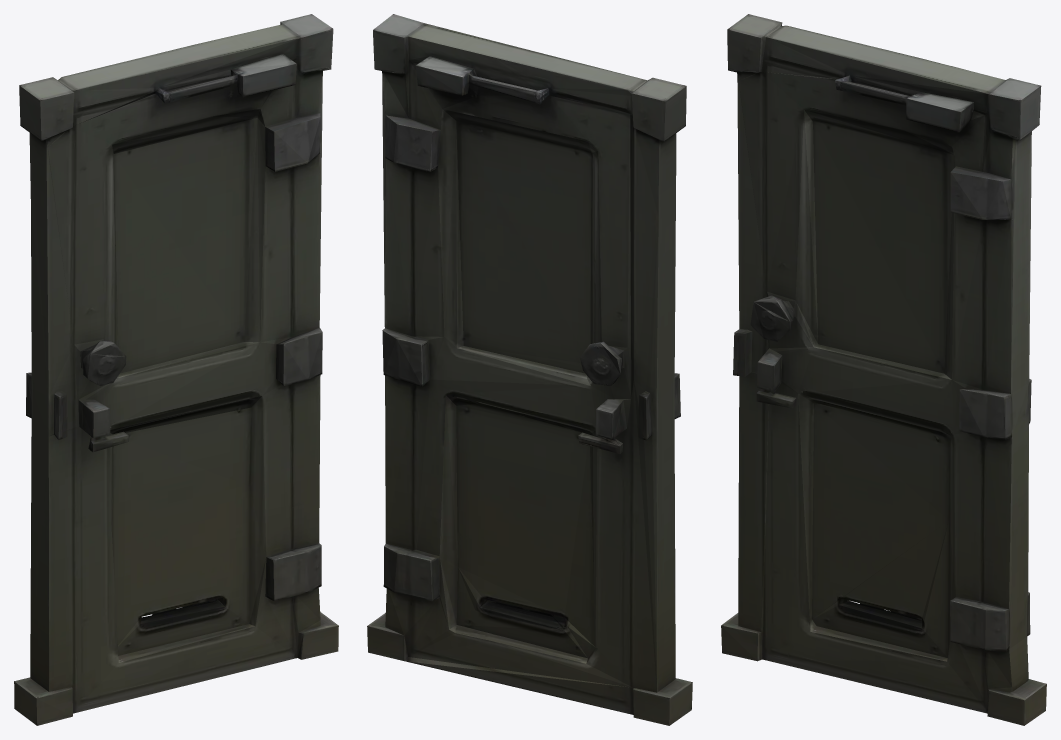
File: metal-security-door.glb
3 renders of one model, left to right at view 1: azimuth 30°, elevation 25°; view 2: azimuth 150°, elevation 25°; view 3: azimuth 330°, elevation 25°, orthographic.
Visible parts, largest first — view 1: geometry_0; view 2: geometry_0; view 3: geometry_0.
Part boxes in pixels (x1,y1,x2,y2): geometry_0: [14, 14, 338, 725]; geometry_0: [367, 14, 692, 725]; geometry_0: [721, 14, 1046, 725].
Size of the model in its own units: 0.5079 by 1 by 0.1354.
Materials: 1 (1 with a texture image).
